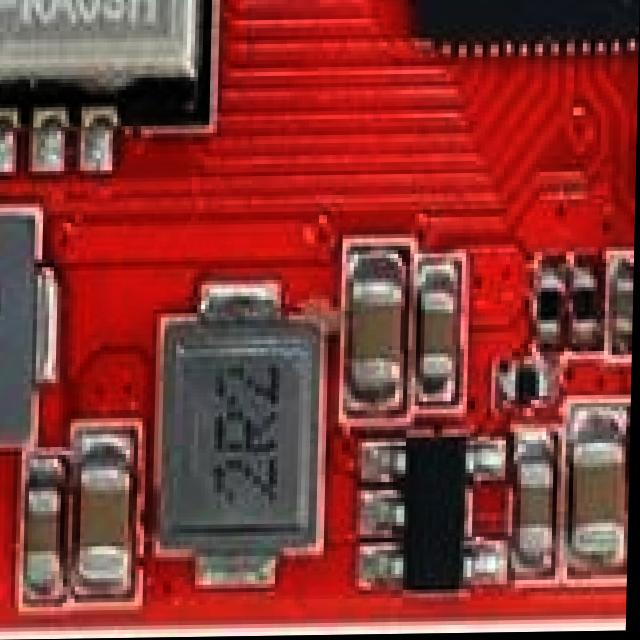IC: (0, 0, 208, 160), (369, 438, 508, 598), (399, 0, 640, 55)
capacitor: (78, 442, 138, 591), (574, 413, 633, 557), (349, 255, 407, 400), (26, 463, 72, 598), (518, 437, 562, 570), (421, 271, 465, 397), (614, 273, 635, 349)
resistor: (162, 292, 321, 578), (0, 207, 48, 444), (534, 277, 565, 346), (578, 273, 601, 343), (513, 370, 551, 402)
